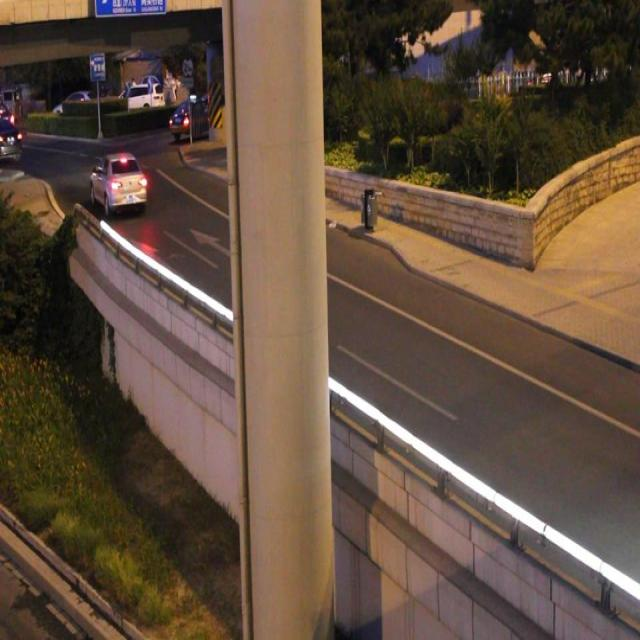car: (90, 154, 146, 206)
